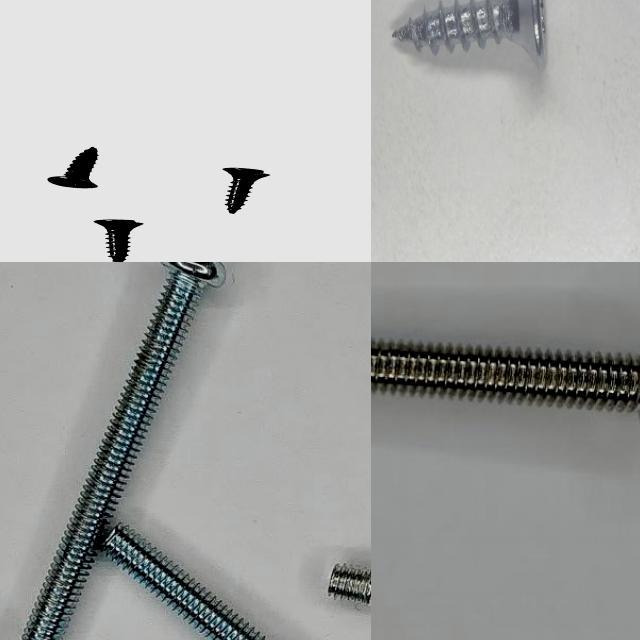Screw: (23, 262, 226, 640), (102, 526, 268, 640), (371, 340, 640, 410), (392, 0, 547, 69), (222, 167, 269, 213), (45, 146, 96, 188), (92, 220, 141, 262), (329, 565, 371, 603)
